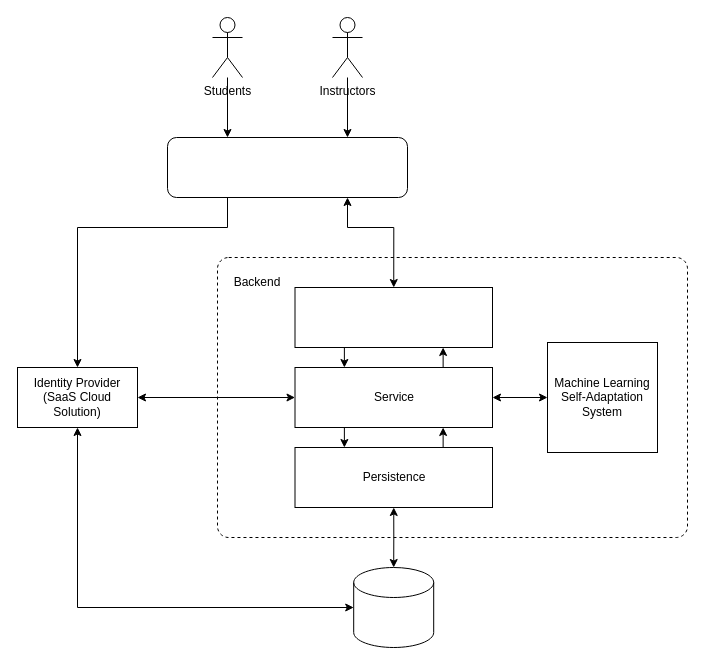
Some shapes in this 705 by 665 pixel diagram are drawn without their labels. Here are the shapes that lost their labels. From the top down, the centre of each, then its label:
the point at 287,167: Webapp
the point at 393,317: Controller
the point at 393,607: Database
